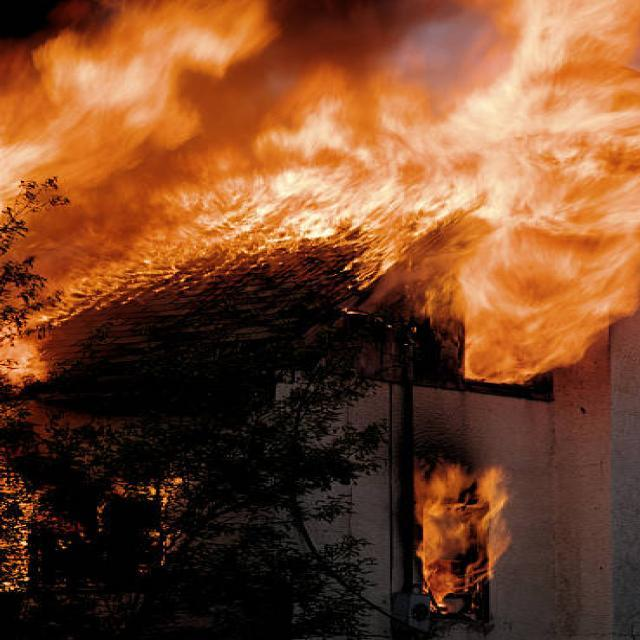Fire: (0, 0, 640, 380), (402, 457, 526, 617)
